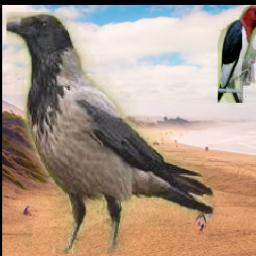Crow: (6, 13, 217, 255)
Woodpecker: (217, 5, 256, 103)
